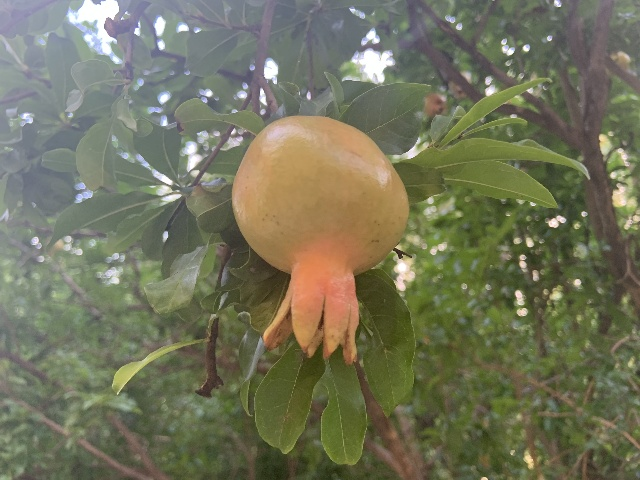mid-growth: (232, 114, 409, 365)
